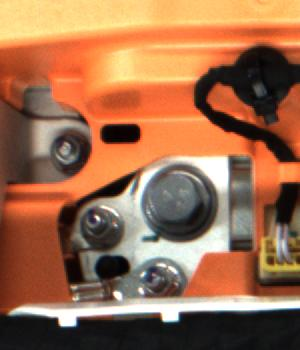nut_b: (141, 162, 223, 240)
screw_s: (80, 201, 123, 245), (140, 258, 174, 296), (47, 132, 81, 168)
